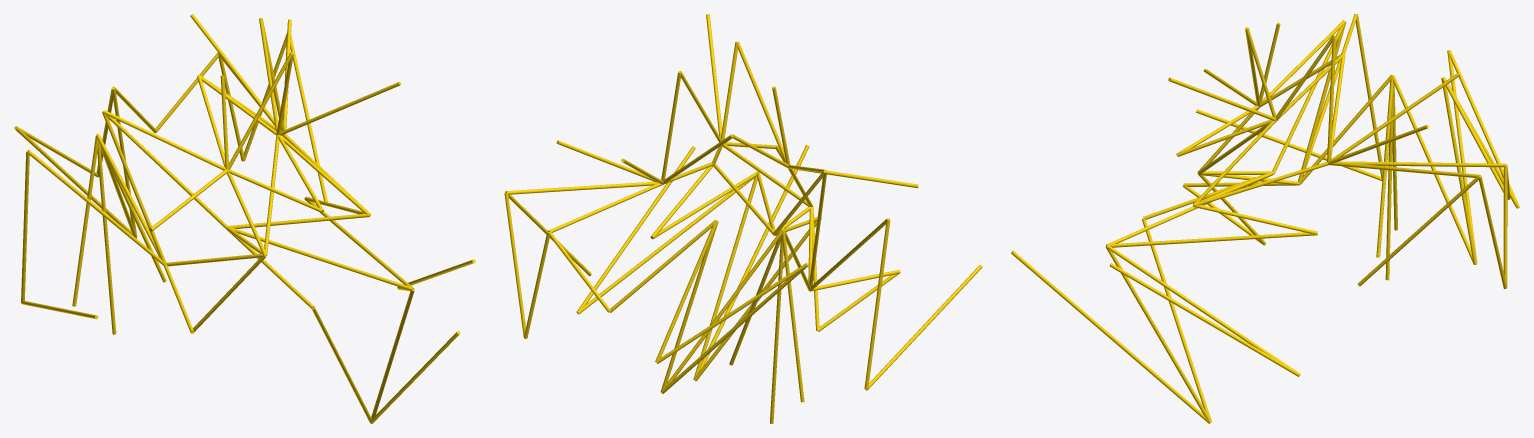
File: 1mel_contacts.glb
The picture shows the model from 3 angles, left to right: view 1: azimuth 30°, elevation 25°; view 2: azimuth 150°, elevation 25°; view 3: azimuth 270°, elevation 25°; orthographic projection.
Visible parts, largest first — view 1: pbonds; view 2: pbonds; view 3: pbonds.
Boxes of the visible parts, x1,y1,x2,y2 form: pbonds: [14, 14, 475, 423]; pbonds: [504, 14, 982, 423]; pbonds: [1011, 14, 1519, 423].
Size of the model in its own units: 21.49 by 21.34 by 26.84.
